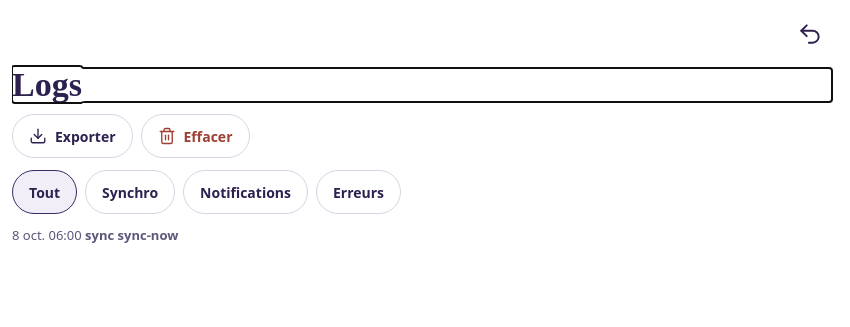
I-04 / FILES-IOS-01 QA : états d’échec de l’écran Logs › FILES-IOS-01 critère 8 : fichier trop gros -> « Fichier trop volumineux » avec le code, SANS « Réessayer » (il échouerait encore), « Exporter » reste actif
Expected: the list is shown, [12, 226, 178, 244]
Click the button "Exporter".
click(72, 136)  # box [12, 114, 132, 158]
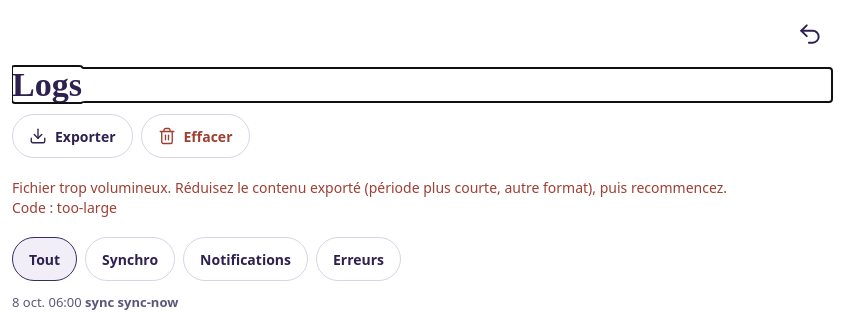
Expected: the message shows "Fichier trop volumineux.", [12, 178, 727, 197]
Expected: the message shows "Code : too-large", [12, 198, 117, 217]
